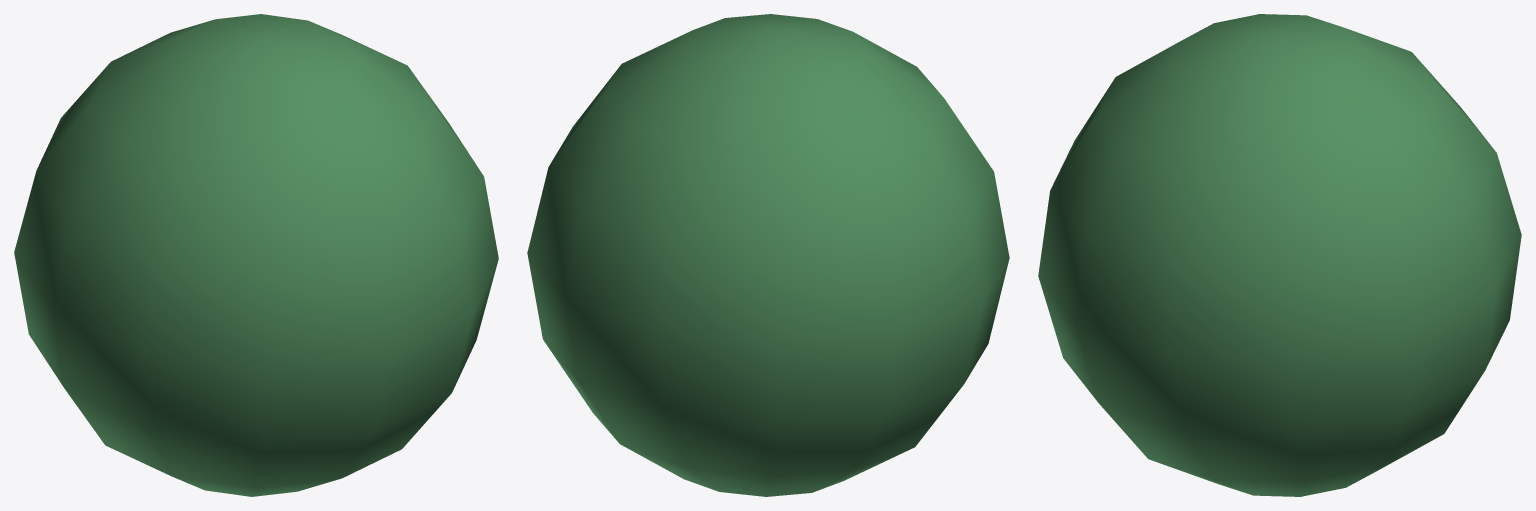
3 views of the same model, side by side, from view 1: azimuth 30°, elevation 25°; view 2: azimuth 150°, elevation 25°; view 3: azimuth 270°, elevation 25° (orthographic).
Visible parts, largest first — view 1: 左侧腔隙淋巴结外侧组; view 2: 左侧腔隙淋巴结外侧组; view 3: 左侧腔隙淋巴结外侧组.
Boxes of the visible parts, <box> form: 左侧腔隙淋巴结外侧组: <box>14,14,498,496</box>; 左侧腔隙淋巴结外侧组: <box>527,14,1009,496</box>; 左侧腔隙淋巴结外侧组: <box>1038,14,1521,496</box>.
Bounding box in the file's own units: 0.00383 × 0.00382 × 0.00382.
